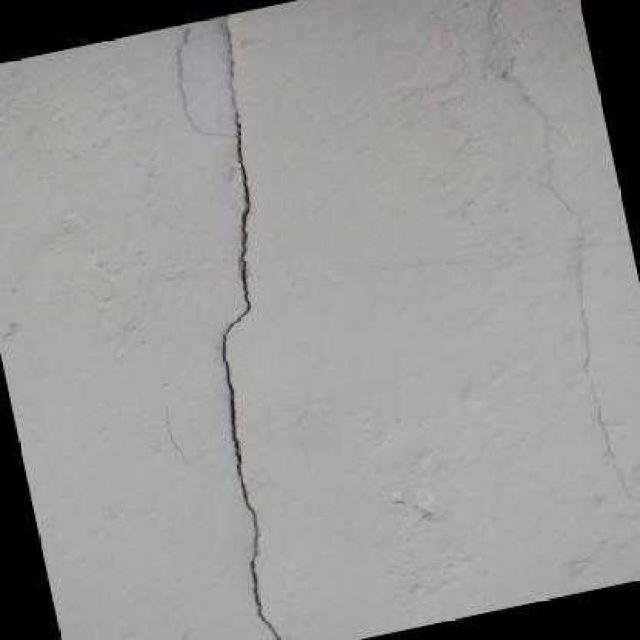D00: (221, 13, 291, 640)
